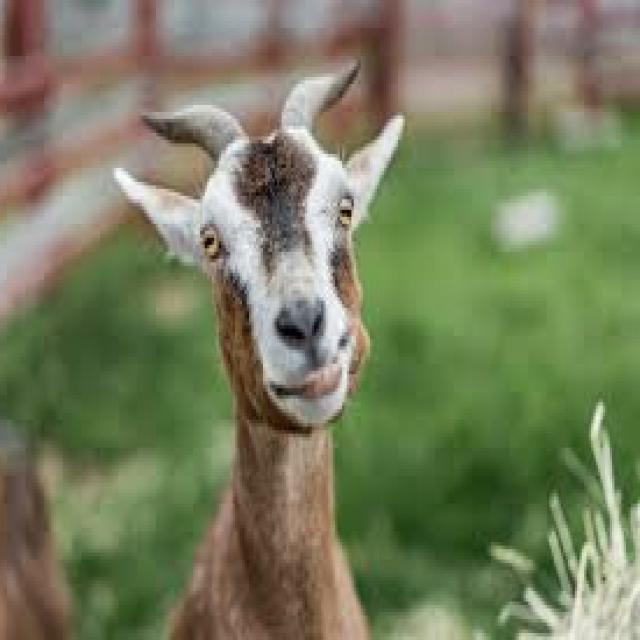goat: (116, 63, 405, 637)
